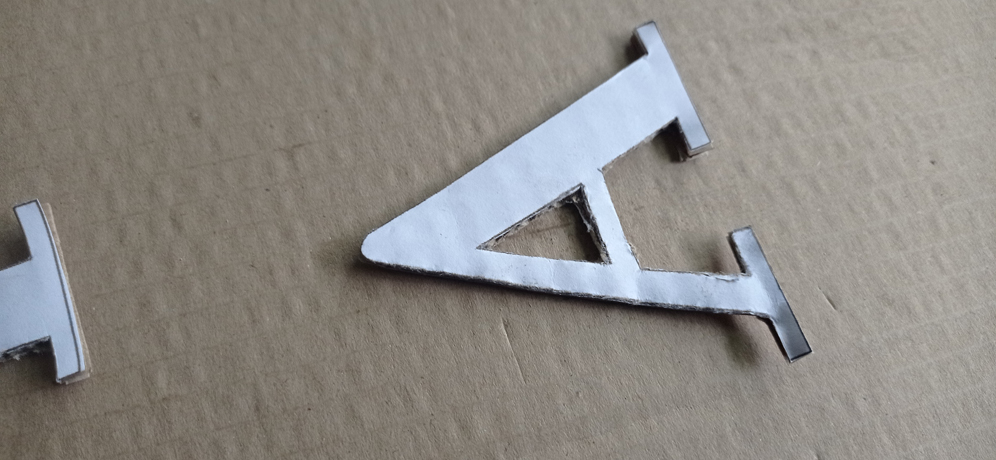a: (360, 20, 813, 365)
